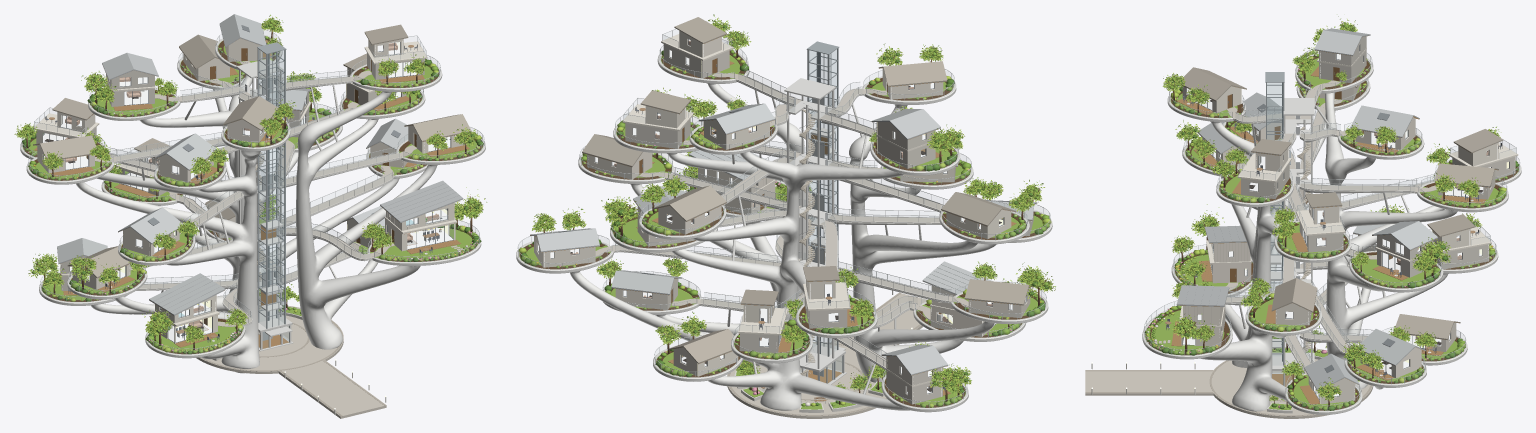
Rendered from q04b-sky-village.glb.
The picture shows the model from 3 angles, left to right: view 1: azimuth 30°, elevation 25°; view 2: azimuth 150°, elevation 25°; view 3: azimuth 270°, elevation 25°; orthographic projection. The views are drawn at different scales.
Visible parts, largest first — view 1: SKELETON, CORE_FRAME, PLAZA_GROUND, CORE_GLASS, HOUSE_05, HOUSE_01, HOUSE_17, HOUSE_19, HOUSE_12, HOUSE_09, HOUSE_14, HOUSE_18 (+52 smaller); view 2: SKELETON, CORE_FRAME, PLAZA_GROUND, HOUSE_15, HOUSE_19, HOUSE_17, HOUSE_04, HOUSE_12, HOUSE_07, HOUSE_18, HOUSE_13, HOUSE_16 (+60 smaller); view 3: SKELETON, PLAZA_GROUND, CORE_FRAME, HOUSE_19, HOUSE_07, HOUSE_15, HOUSE_10, HOUSE_05, HOUSE_17, HOUSE_01, HOUSE_12, HOUSE_18 (+46 smaller).
Boxes of the visible parts, <box> form: SKELETON: <box>76,74,436,373</box>; CORE_FRAME: <box>236,42,293,351</box>; PLAZA_GROUND: <box>196,305,386,418</box>; CORE_GLASS: <box>259,50,284,327</box>; HOUSE_05: <box>380,180,463,251</box>; HOUSE_01: <box>149,273,225,343</box>; HOUSE_17: <box>102,52,158,106</box>; HOUSE_19: <box>364,24,427,79</box>; HOUSE_12: <box>32,98,99,145</box>; HOUSE_09: <box>118,207,182,255</box>; HOUSE_14: <box>153,133,218,182</box>; HOUSE_18: <box>219,14,266,61</box>; SKELETON: <box>570,84,996,410</box>; CORE_FRAME: <box>784,41,846,384</box>; PLAZA_GROUND: <box>727,290,927,418</box>; HOUSE_15: <box>622,90,693,148</box>; HOUSE_19: <box>661,17,733,78</box>; HOUSE_17: <box>871,109,940,168</box>; HOUSE_04: <box>881,344,948,404</box>; HOUSE_12: <box>803,266,850,328</box>; HOUSE_07: <box>738,289,788,352</box>; HOUSE_18: <box>698,103,774,149</box>; HOUSE_13: <box>941,192,1016,239</box>; HOUSE_16: <box>653,185,726,234</box>; SKELETON: <box>1200,92,1457,411</box>; PLAZA_GROUND: <box>1085,347,1373,418</box>; CORE_FRAME: <box>1265,72,1314,386</box>; HOUSE_19: <box>1237,139,1291,198</box>; HOUSE_07: <box>1427,214,1491,269</box>; HOUSE_15: <box>1296,192,1345,252</box>; HOUSE_10: <box>1372,221,1437,277</box>; HOUSE_05: <box>1176,285,1229,346</box>; HOUSE_17: <box>1314,28,1370,83</box>; HOUSE_01: <box>1204,225,1251,283</box>; HOUSE_12: <box>1448,129,1518,179</box>; HOUSE_18: <box>1350,105,1419,150</box>.
Size of the model in its own units: 74.58 by 50.63 by 63.59.
